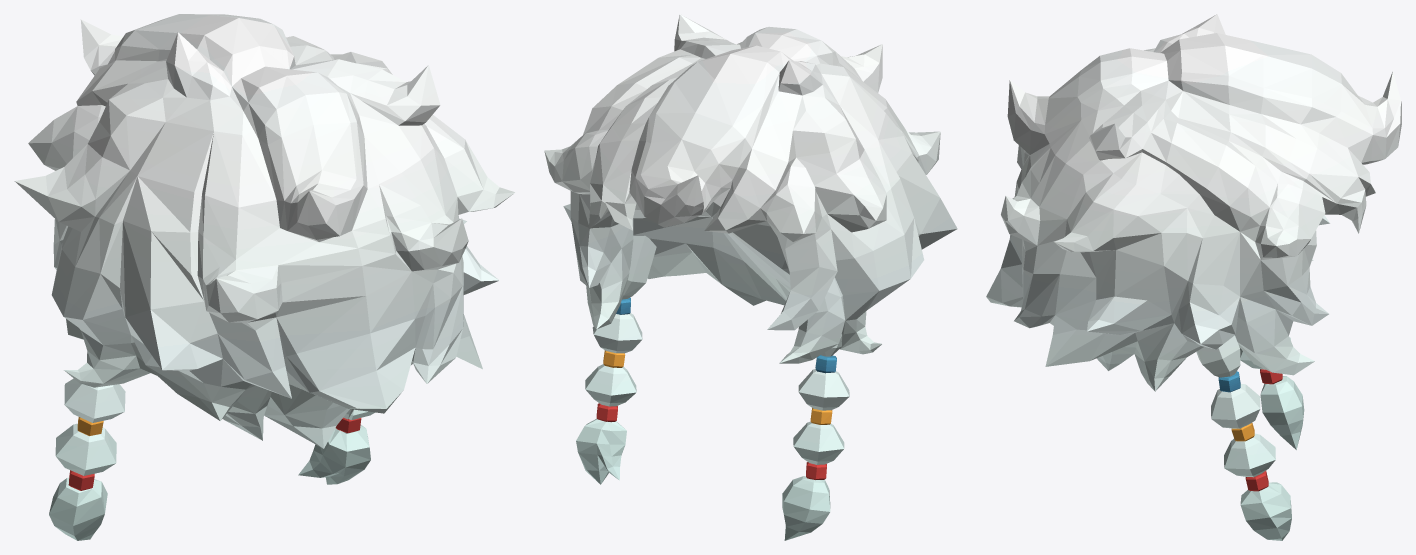
File: CharSkyKid_Hair_ColorTufts.glb
The picture shows the model from 3 angles, left to right: view 1: azimuth 30°, elevation 25°; view 2: azimuth 150°, elevation 25°; view 3: azimuth 270°, elevation 25°; orthographic projection. The views are drawn at different scales.
Visible parts, largest first — view 1: CharSkyKid_Hair_ColorTufts; view 2: CharSkyKid_Hair_ColorTufts; view 3: CharSkyKid_Hair_ColorTufts.
Boxes of the visible parts, box(x1,y1,x2,y2) form: CharSkyKid_Hair_ColorTufts: box(14, 14, 514, 540); CharSkyKid_Hair_ColorTufts: box(544, 14, 957, 540); CharSkyKid_Hair_ColorTufts: box(986, 14, 1401, 540).
Bounding box in the file's own units: 3.51 × 4.31 × 3.58.
Materials: 1 (1 with a texture image).
